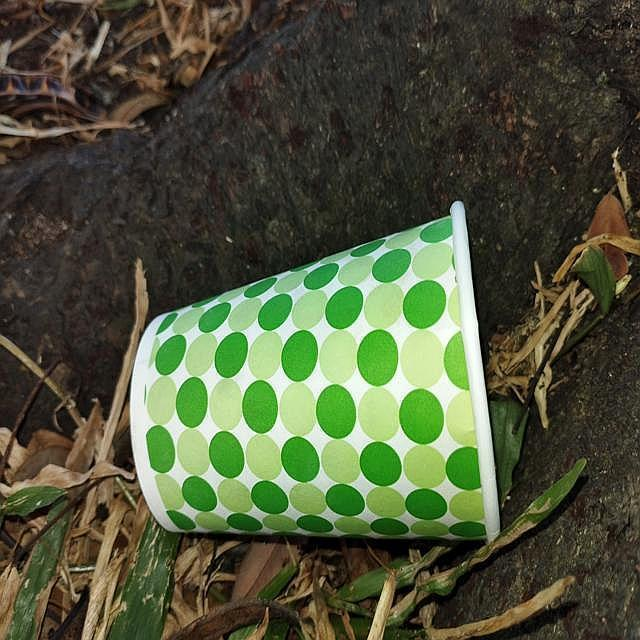Biodegradable: (131, 203, 502, 541)
